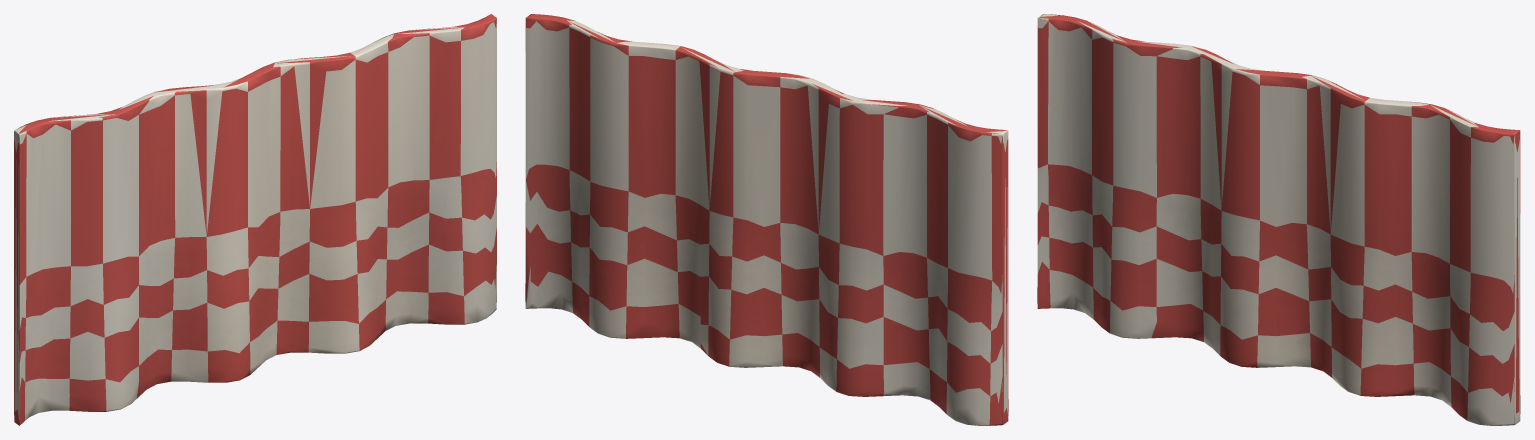
File: den_bed_valance.glb
The picture shows the model from 3 angles, left to right: view 1: azimuth 30°, elevation 25°; view 2: azimuth 150°, elevation 25°; view 3: azimuth 330°, elevation 25°; orthographic projection.
Parts seen in each view (by area): view 1: den_bed_valance; view 2: den_bed_valance; view 3: den_bed_valance.
Part boxes in pixels (left/top/right/bottom): den_bed_valance: left=14, top=14, right=496, bottom=425; den_bed_valance: left=525, top=14, right=1008, bottom=425; den_bed_valance: left=1037, top=14, right=1520, bottom=425.
Bounding box in the file's own units: 12 × 7 × 0.9799.
